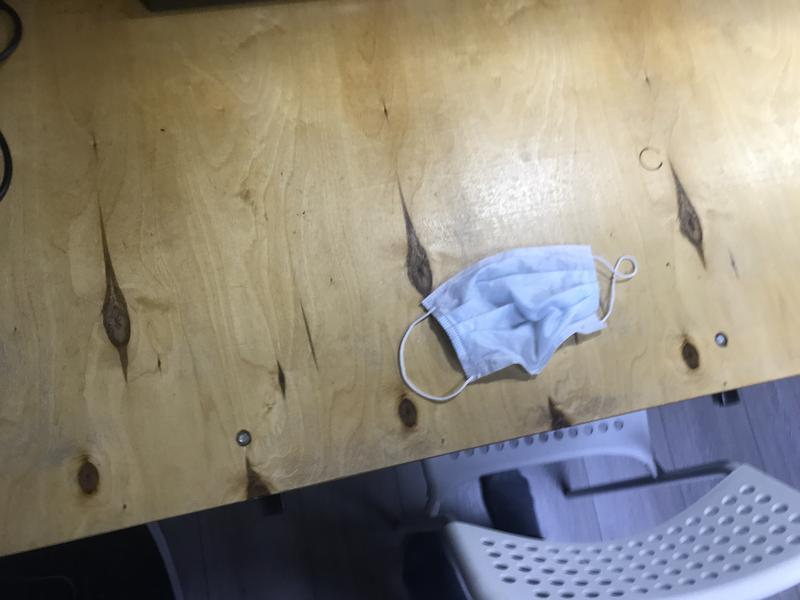medical_mask: (400, 247, 637, 403)
